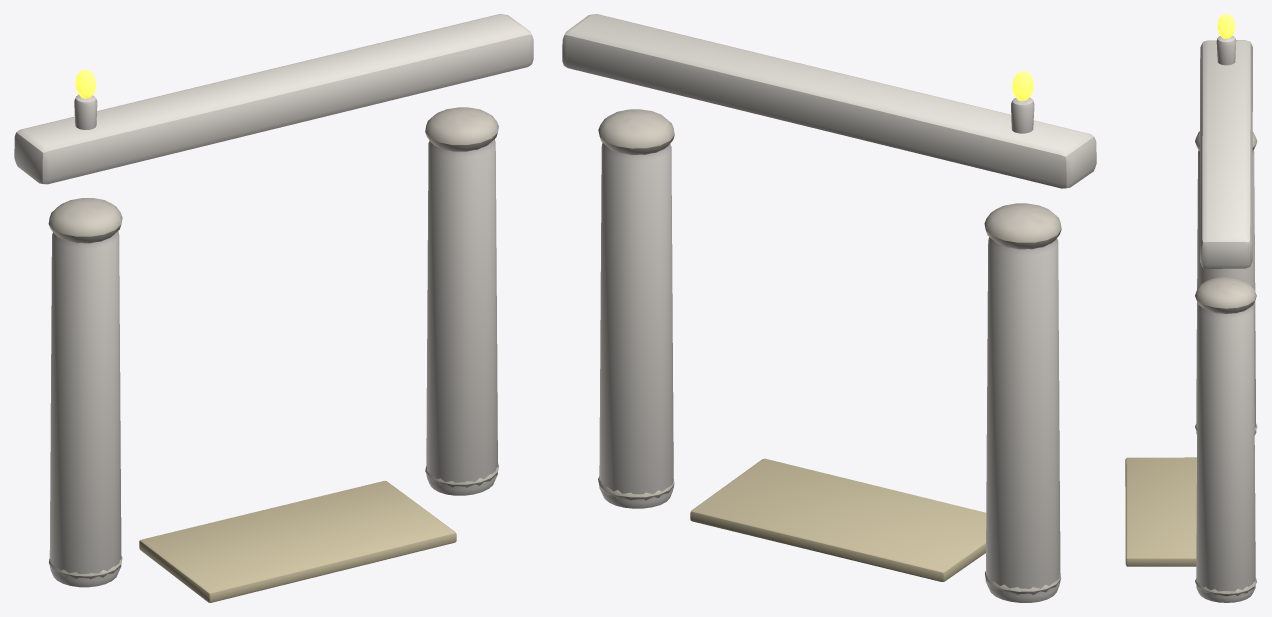
3 renders of one model, left to right at view 1: azimuth 30°, elevation 25°; view 2: azimuth 150°, elevation 25°; view 3: azimuth 270°, elevation 25°, orthographic. The views are drawn at different scales.
Parts seen in each view (by area): view 1: gate_cc002a1f; view 2: gate_cc002a1f; view 3: gate_cc002a1f.
Boxes of the visible parts, x1,y1,x2,y2 form: gate_cc002a1f: (14,14,533,602); gate_cc002a1f: (562,14,1096,602); gate_cc002a1f: (1125,14,1257,602).
Size of the model in its own units: 4.79 by 4.68 by 1.32.
